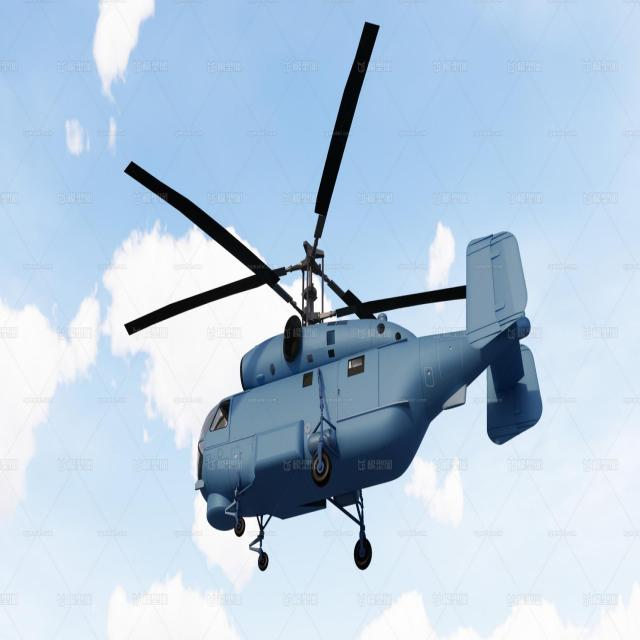MIL_HELO: (75, 19, 568, 575)
